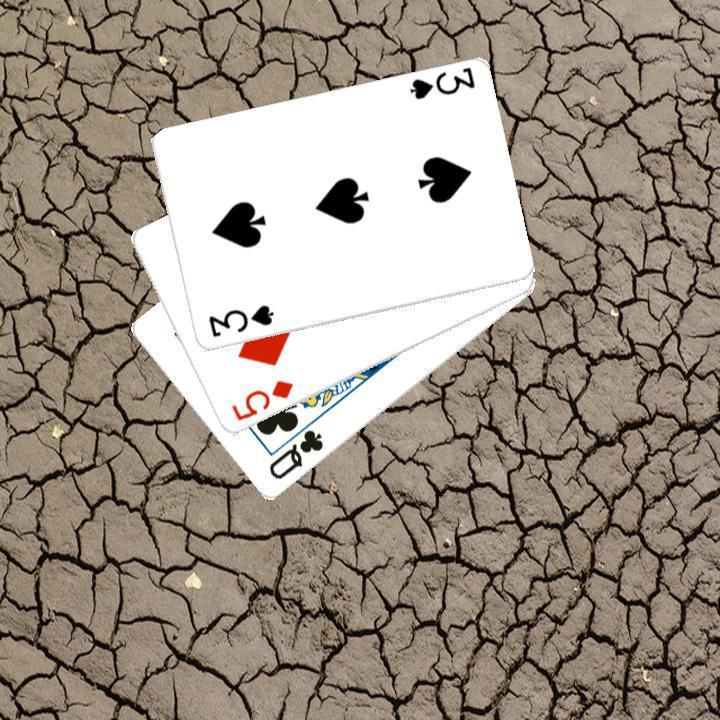3: (203, 301, 275, 340), (405, 63, 477, 102)
5: (227, 376, 295, 424)
Q: (264, 425, 326, 482)
